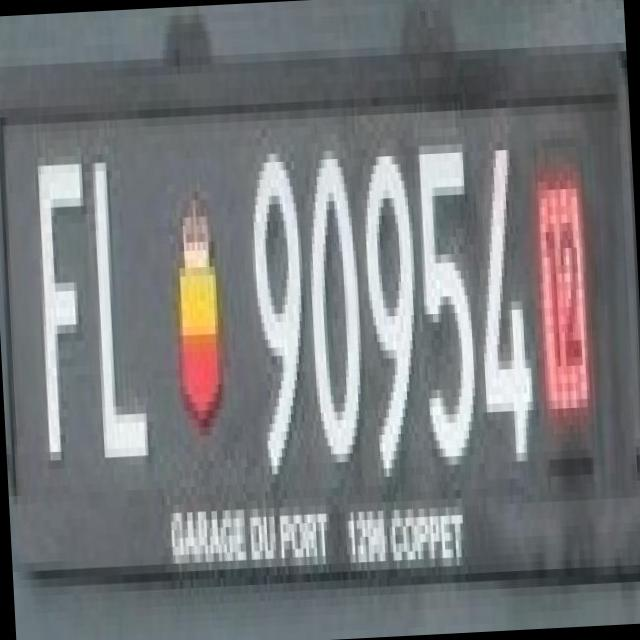0: (294, 116, 368, 464)
4: (463, 115, 538, 447)
5: (406, 110, 476, 450)
9: (230, 127, 314, 459), (352, 113, 424, 461)
F: (22, 139, 92, 461)
L: (74, 127, 148, 459)
